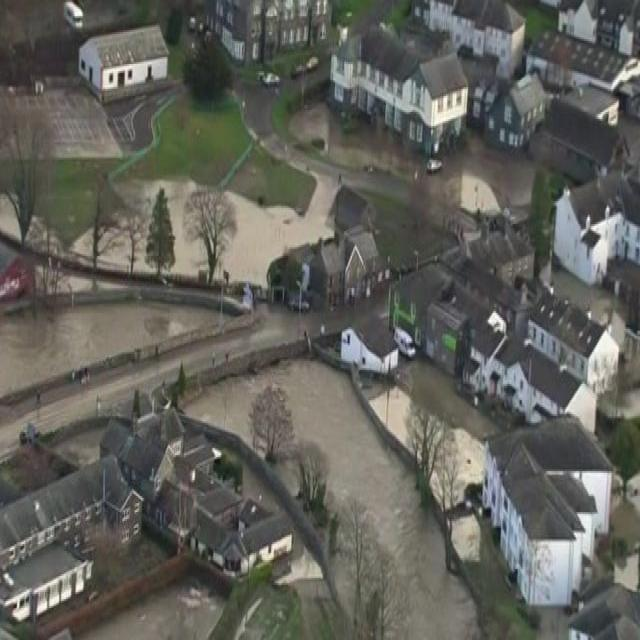flooded_areas: (0, 119, 330, 395), (288, 50, 619, 186)
